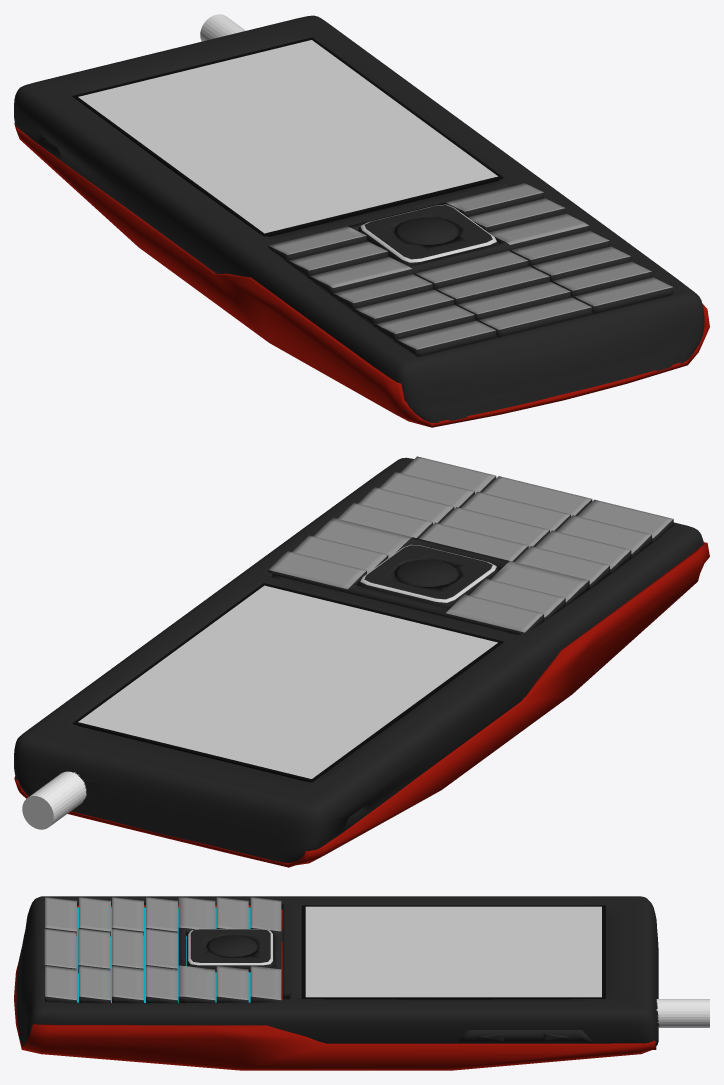
The model's file is CellPhone.dae.
3 views of the same model, one above another, from view 1: azimuth 30°, elevation 25°; view 2: azimuth 150°, elevation 25°; view 3: azimuth 270°, elevation 25° (orthographic). The views are drawn at different scales.
Parts seen in each view (by area): view 1: casing, lcd, sft_key, casing_back, nav_1, nav_center, Cylinder; view 2: casing, lcd, sft_key, casing_back, nav_1, Cylinder, nav_center; view 3: casing, lcd, sft_key, casing_back, nav_1, R_bton, Cylinder, ight, nav_center.
Boxes of the visible parts, <box> form: casing: <box>14,15,704,422</box>; lcd: <box>72,37,503,236</box>; sft_key: <box>268,183,673,356</box>; casing_back: <box>14,123,709,427</box>; nav_1: <box>358,204,497,265</box>; nav_center: <box>396,217,458,244</box>; Cylinder: <box>200,14,245,41</box>; casing: <box>14,457,703,862</box>; lcd: <box>72,583,503,782</box>; sft_key: <box>268,456,673,634</box>; casing_back: <box>14,542,709,867</box>; nav_1: <box>358,544,498,607</box>; Cylinder: <box>22,771,86,829</box>; nav_center: <box>396,559,458,586</box>; casing: <box>16,896,659,1046</box>; lcd: <box>301,905,605,999</box>; sft_key: <box>44,897,281,1002</box>; casing_back: <box>14,905,656,1070</box>; nav_1: <box>186,929,273,972</box>; R_bton: <box>456,1030,594,1043</box>; Cylinder: <box>656,999,709,1027</box>; ight: <box>76,907,250,1002</box>; nav_center: <box>207,935,257,957</box>.
Size of the model in its own units: 3.24 by 7.77 by 0.8849.
